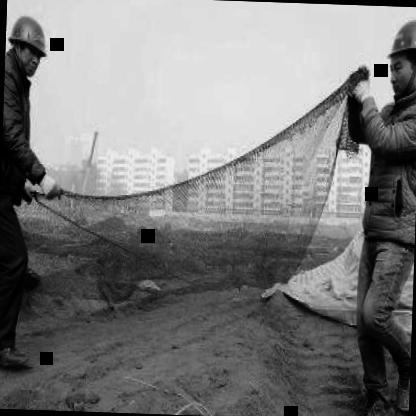helmet: (380, 12, 416, 101), (8, 12, 50, 76)
